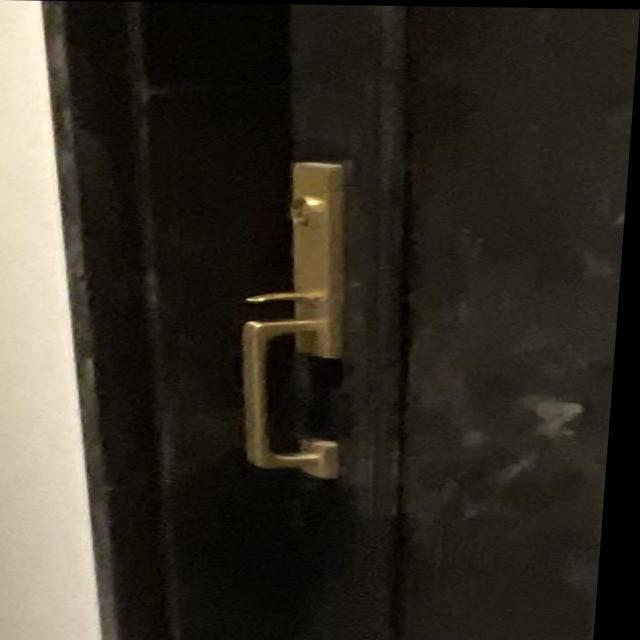door_handle: (223, 311, 380, 483)
